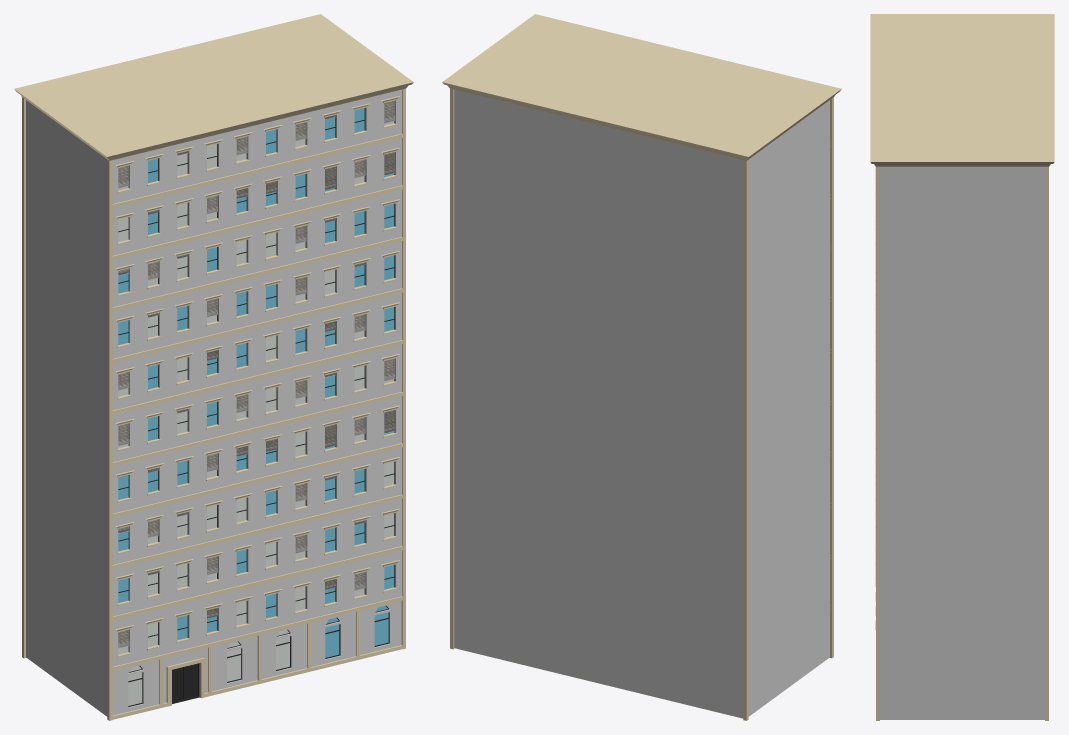
Rendered from Bloc_03F.fbx.
3 renders of one model, left to right at view 1: azimuth 30°, elevation 25°; view 2: azimuth 150°, elevation 25°; view 3: azimuth 270°, elevation 25°, orthographic.
Parts seen in each view (by area): view 1: Bloc_03F; view 2: Bloc_03F; view 3: Bloc_03F.
Part boxes in pixels (x1=…): Bloc_03F: x1=14, y1=14, x2=413, y2=720; Bloc_03F: x1=442, y1=14, x2=841, y2=720; Bloc_03F: x1=870, y1=14, x2=1054, y2=720.
Size of the model in its own units: 982 by 3300 by 1867.
